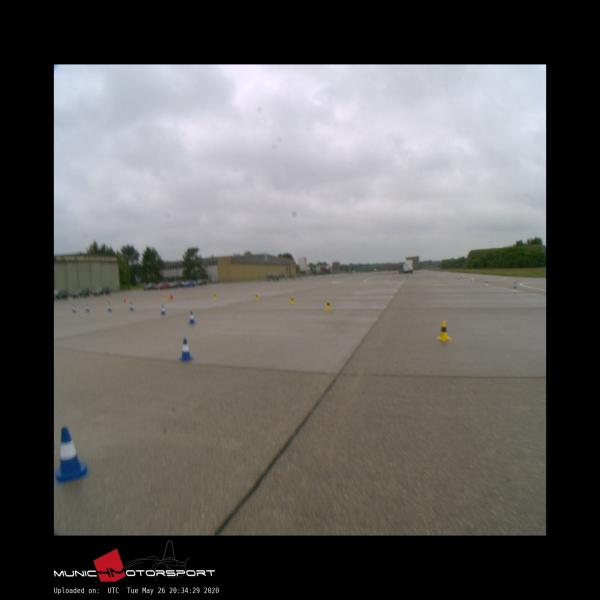blue_cone: (56, 428, 87, 484), (179, 338, 193, 360), (188, 311, 196, 324), (160, 305, 166, 314)
yellow_cone: (437, 320, 451, 340), (325, 300, 331, 310), (289, 296, 295, 304), (254, 293, 258, 299)
